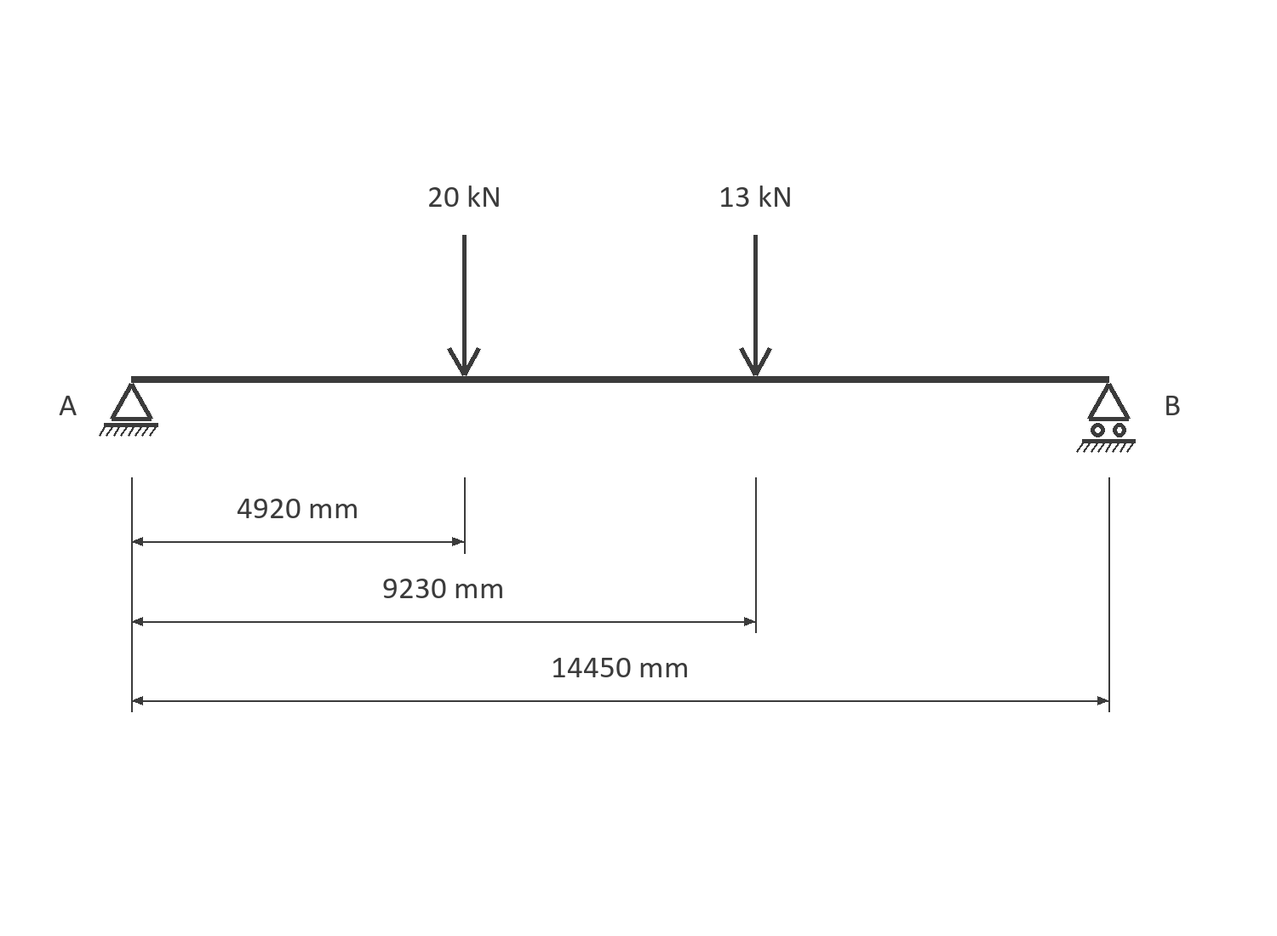pin_support: (99, 383, 158, 437)
point_load: (447, 235, 481, 376), (739, 235, 772, 376)
roller_support: (1076, 383, 1136, 453)
